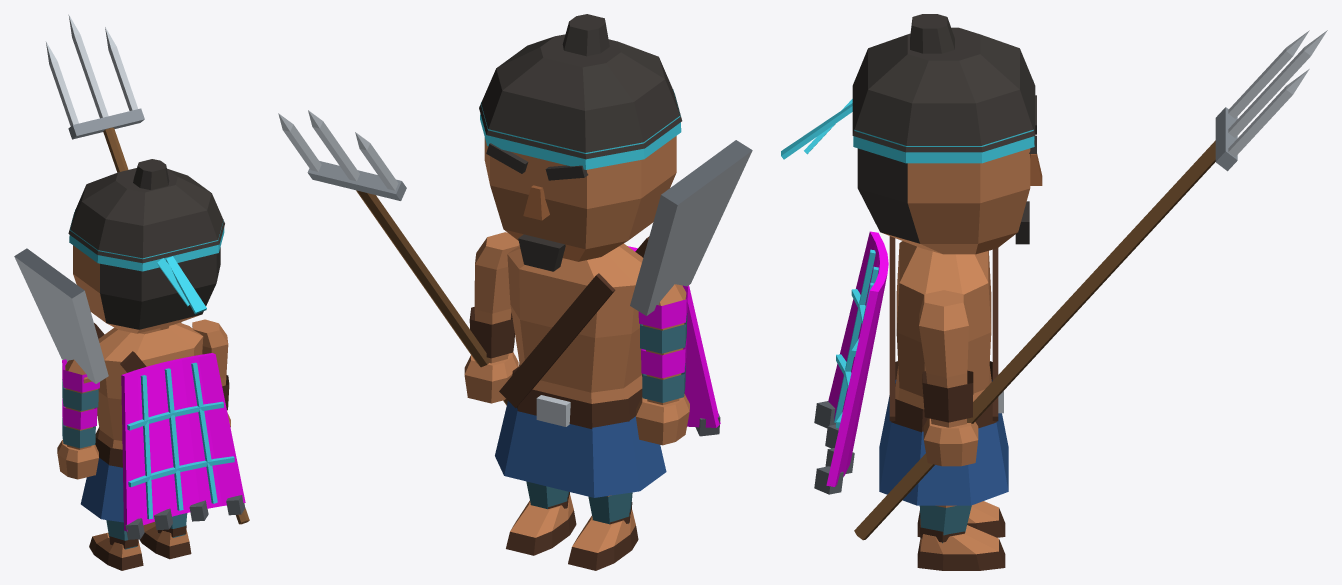
Rendered from CH_NetWeaver_DeepSea.fbx.
3 views of the same model, side by side, from view 1: azimuth 30°, elevation 25°; view 2: azimuth 150°, elevation 25°; view 3: azimuth 270°, elevation 25° (orthographic). The views are drawn at different scales.
Visible parts, largest first — view 1: Body, Head, ArmR, ArmL, LegL, LegR; view 2: Body, Head, ArmR, ArmL, LegL, LegR; view 3: Head, Body, ArmR, LegR, LegL.
Boxes of the visible parts, left/top/right/bottom form: Body: left=14, top=248, right=245, bottom=539; Head: left=68, top=159, right=224, bottom=333; ArmR: left=46, top=14, right=249, bottom=524; ArmL: left=57, top=359, right=99, bottom=479; LegL: left=89, top=520, right=143, bottom=570; LegR: left=139, top=513, right=191, bottom=559; Body: left=495, top=140, right=752, bottom=497; Head: left=479, top=14, right=682, bottom=271; ArmR: left=278, top=110, right=519, bottom=405; ArmL: left=636, top=284, right=689, bottom=445; LegL: left=568, top=492, right=638, bottom=570; LegR: left=506, top=481, right=576, bottom=555; Head: left=781, top=14, right=1042, bottom=254; Body: left=814, top=231, right=1008, bottom=505; ArmR: left=854, top=30, right=1327, bottom=540; LegR: left=917, top=505, right=1005, bottom=570; LegL: left=917, top=501, right=1005, bottom=537.
Size of the model in its own units: 0.8955 by 1.56 by 1.76.
